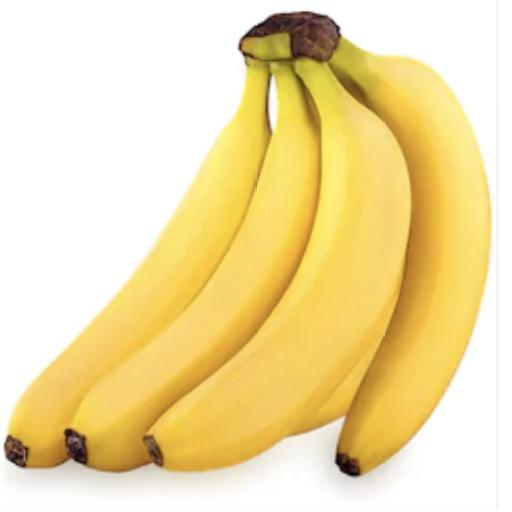banana: (241, 14, 491, 474), (145, 59, 411, 470), (6, 63, 270, 466), (67, 65, 320, 470), (330, 40, 491, 474), (295, 279, 401, 433)
